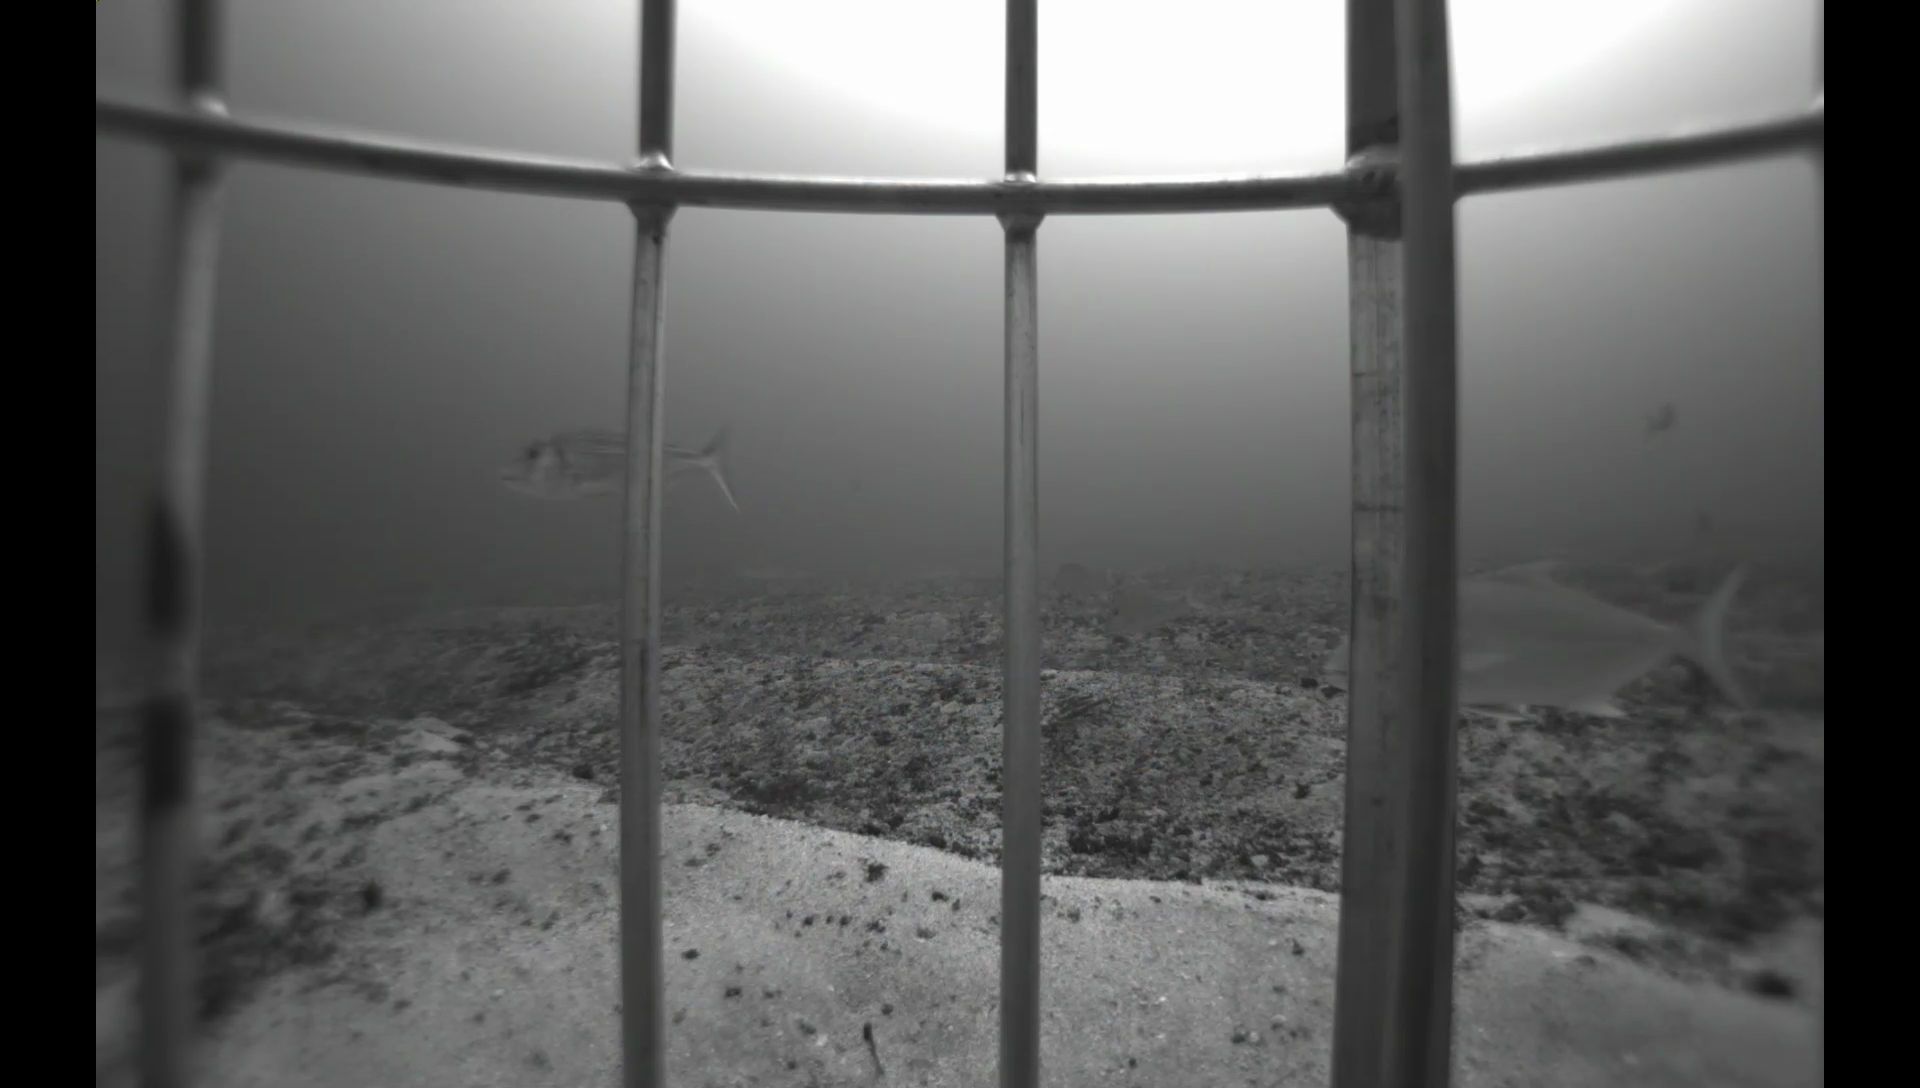CALAMUS-170210600: (1098, 575, 1209, 645), (1048, 557, 1120, 597)
EPINEPHELUSMORIO-170021211: (1677, 496, 1724, 542)
PAGRUSPAGRUS-170212302: (487, 409, 756, 518)
RHOMBOPLITESAURORUBENS-170152001: (1629, 397, 1685, 446), (840, 472, 869, 501)
SERIOLARIVOLIANA-170113105: (1312, 541, 1778, 735)
